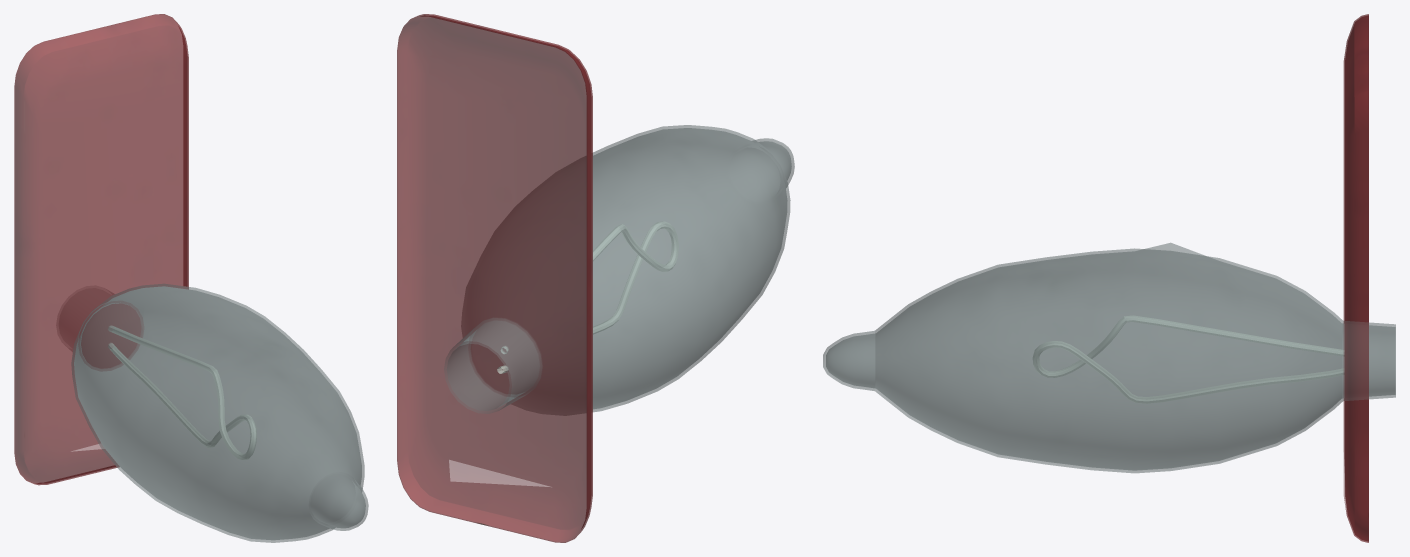
File: pistolafoco.obj
The picture shows the model from 3 angles, left to right: view 1: azimuth 30°, elevation 25°; view 2: azimuth 150°, elevation 25°; view 3: azimuth 270°, elevation 25°; orthographic projection. The views are drawn at different scales.
Parts seen in each view (by area): view 1: memory_gun_Memory_gun_texture_001; view 2: memory_gun_Memory_gun_texture_001; view 3: memory_gun_Memory_gun_texture_001.
Boxes of the visible parts, x1=… form: memory_gun_Memory_gun_texture_001: x1=14, y1=14, x2=368, y2=542; memory_gun_Memory_gun_texture_001: x1=397, y1=14, x2=794, y2=542; memory_gun_Memory_gun_texture_001: x1=823, y1=14, x2=1395, y2=542.
Size of the model in its own units: 10.58 by 23.99 by 26.72.
Materials: 1 (1 with a texture image).
